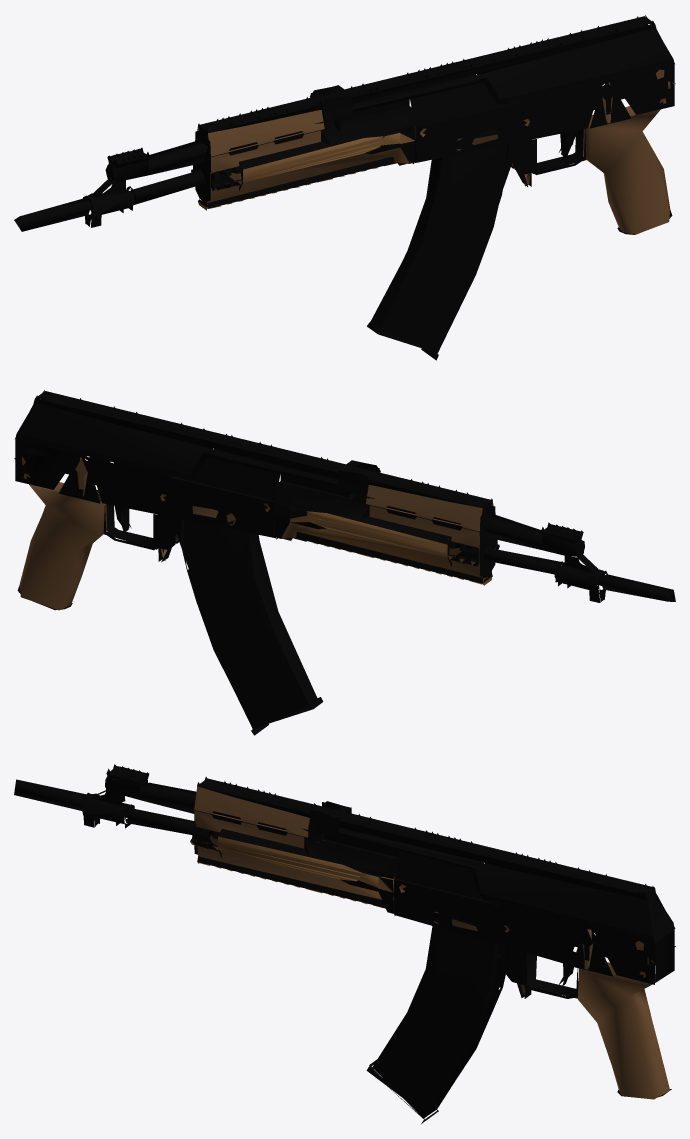
Rendered from gun1.fbx.
The picture shows the model from 3 angles, top to bottom: view 1: azimuth 30°, elevation 25°; view 2: azimuth 150°, elevation 25°; view 3: azimuth 330°, elevation 25°; orthographic projection.
Parts seen in each view (by area): view 1: AK12Mesh; view 2: AK12Mesh; view 3: AK12Mesh.
Part boxes in pixels (x1,y1,x2,y2): AK12Mesh: (14, 15, 675, 360); AK12Mesh: (14, 390, 675, 735); AK12Mesh: (14, 764, 675, 1123).
Size of the model in its own units: 85.74 by 36.05 by 6.72.
